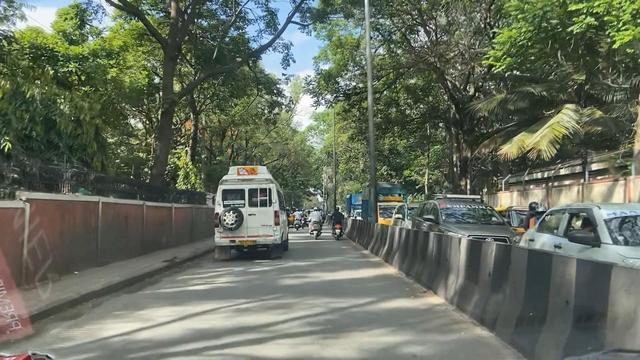LMV: (214, 166, 280, 253), (333, 206, 352, 244), (309, 206, 323, 240)
